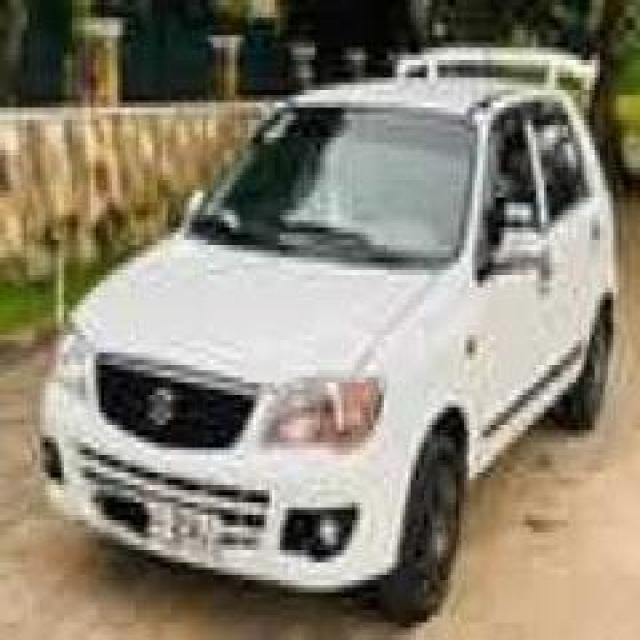car: (2, 62, 618, 640)
